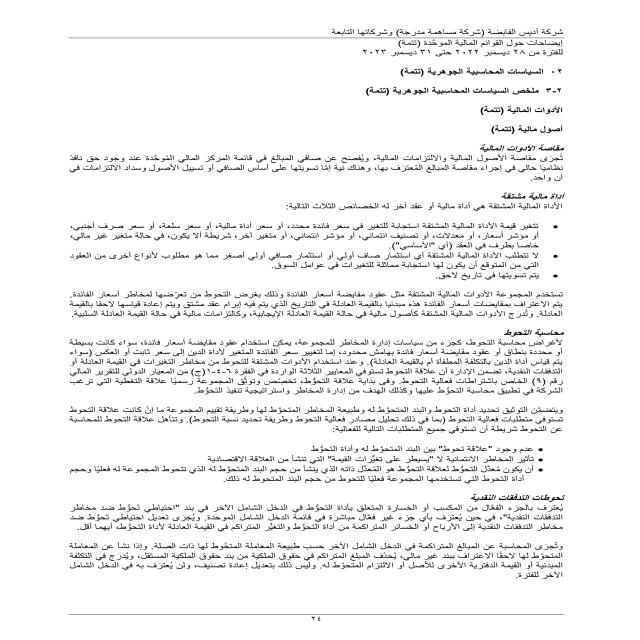notes: (385, 38, 572, 48)
text: (53, 61, 582, 590)
